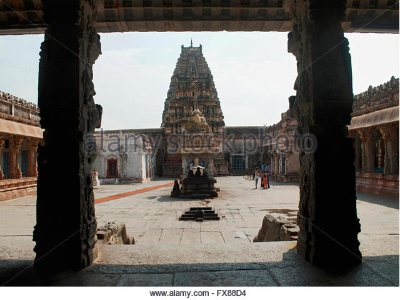gopura: (142, 37, 241, 145)
